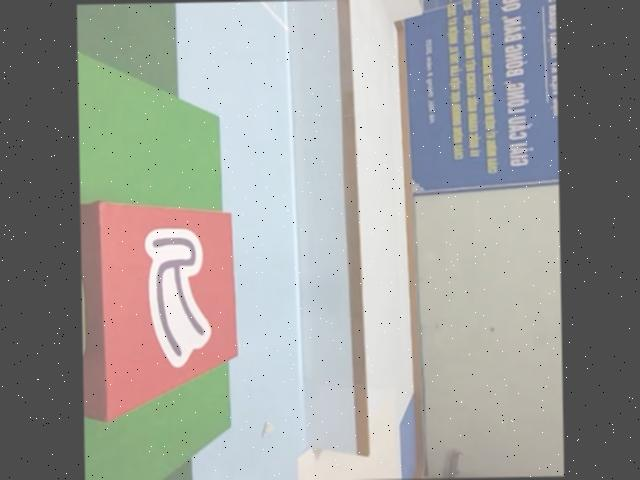R2 Fake: (79, 194, 244, 425)
